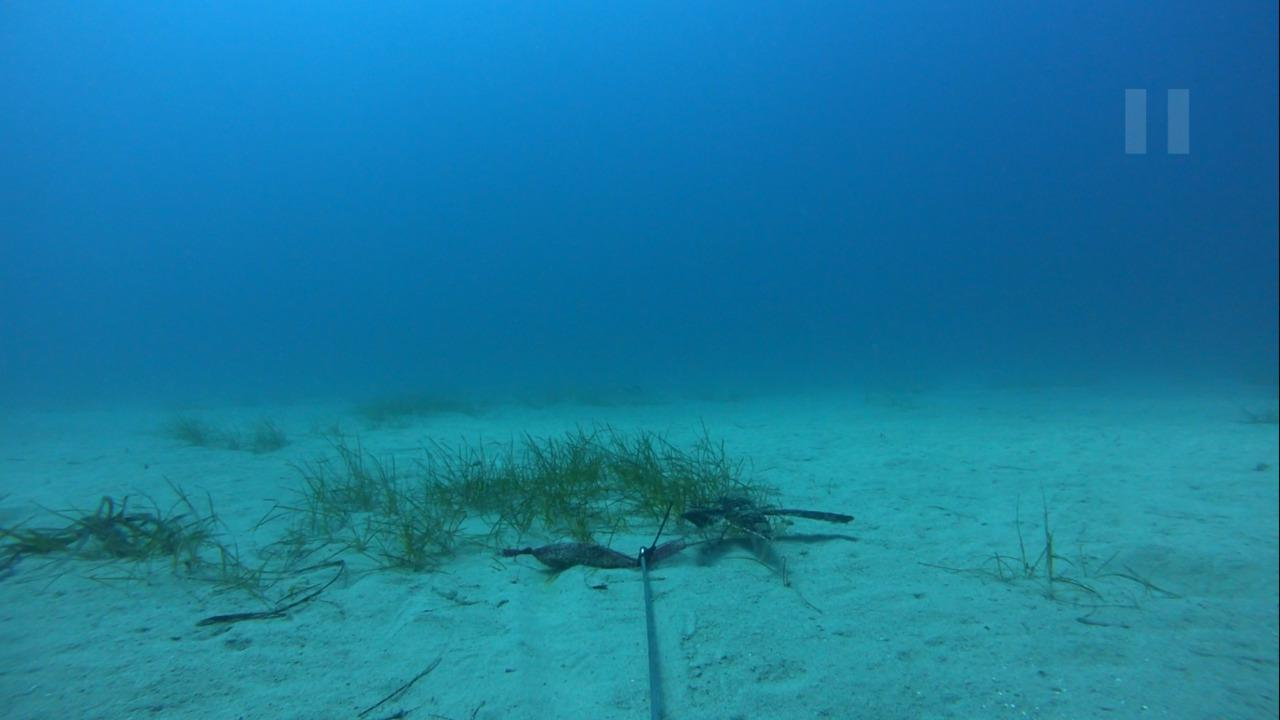dactylopterus: (672, 487, 857, 567)
